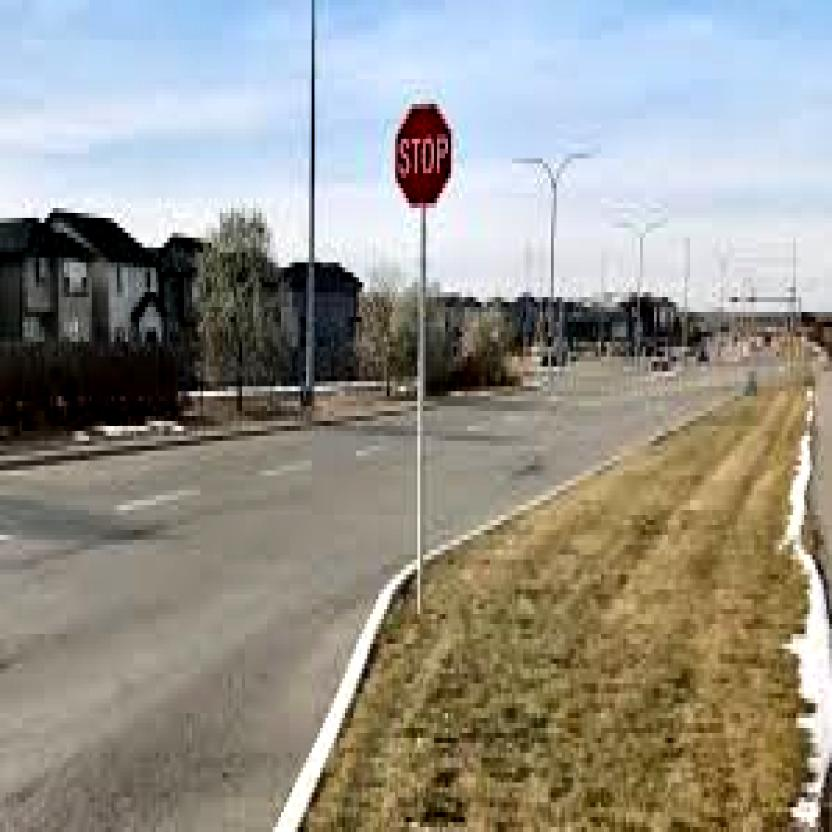Pole: (418, 208, 426, 609)
Sign: (390, 104, 450, 208)
